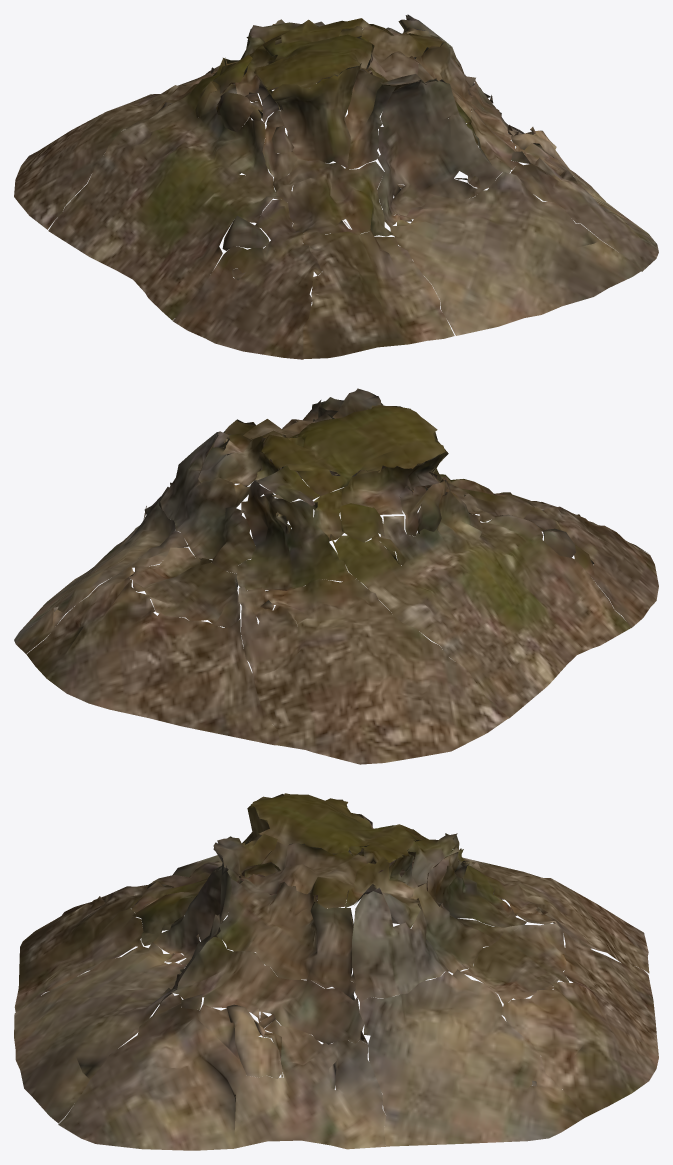
Rendered from tree_stump_01.glb.
The picture shows the model from 3 angles, top to bottom: view 1: azimuth 30°, elevation 25°; view 2: azimuth 150°, elevation 25°; view 3: azimuth 270°, elevation 25°; orthographic projection. The views are drawn at different scales.
Parts seen in each view (by area): view 1: tree_stump_01; view 2: tree_stump_01; view 3: tree_stump_01.
Part boxes in pixels (<box>): tree_stump_01: <box>14,14,658,359</box>; tree_stump_01: <box>14,388,658,764</box>; tree_stump_01: <box>14,793,658,1150</box>.
Bounding box in the file's own units: 1.42 × 0.571 × 1.59.
Materials: 1 (1 with a texture image).
